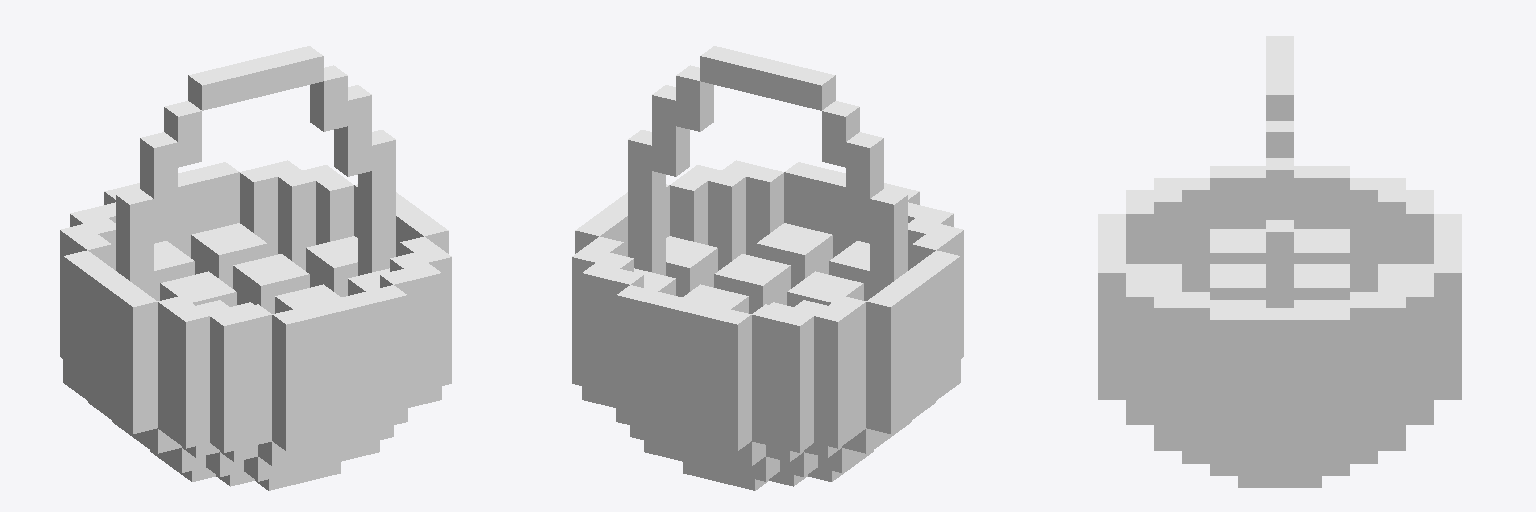
Rendered from Egg_Basket_Level_1.obj.
The picture shows the model from 3 angles: view 1: azimuth 30°, elevation 25°; view 2: azimuth 150°, elevation 25°; view 3: azimuth 270°, elevation 25°; orthographic projection.
Visible parts, largest first — view 1: Egg_Basket_Level_1; view 2: Egg_Basket_Level_1; view 3: Egg_Basket_Level_1.
Part boxes in pixels (left/top/right/bottom): Egg_Basket_Level_1: left=60, top=46, right=451, bottom=490; Egg_Basket_Level_1: left=572, top=46, right=963, bottom=490; Egg_Basket_Level_1: left=1098, top=36, right=1461, bottom=487.
Bounding box in the file's own units: 13 × 15 × 13.